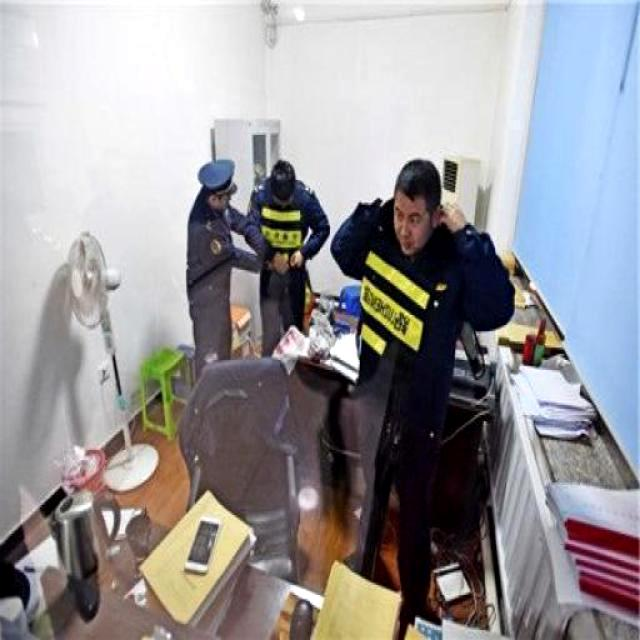no_hard_hat: (200, 159, 236, 201)
no_head_wear: (394, 160, 440, 209), (268, 159, 295, 201)
person: (333, 159, 516, 622), (186, 159, 263, 374), (246, 160, 329, 354)
